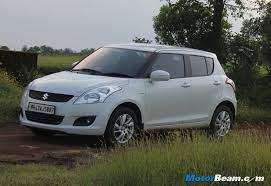Hatchback: (18, 43, 240, 147)
